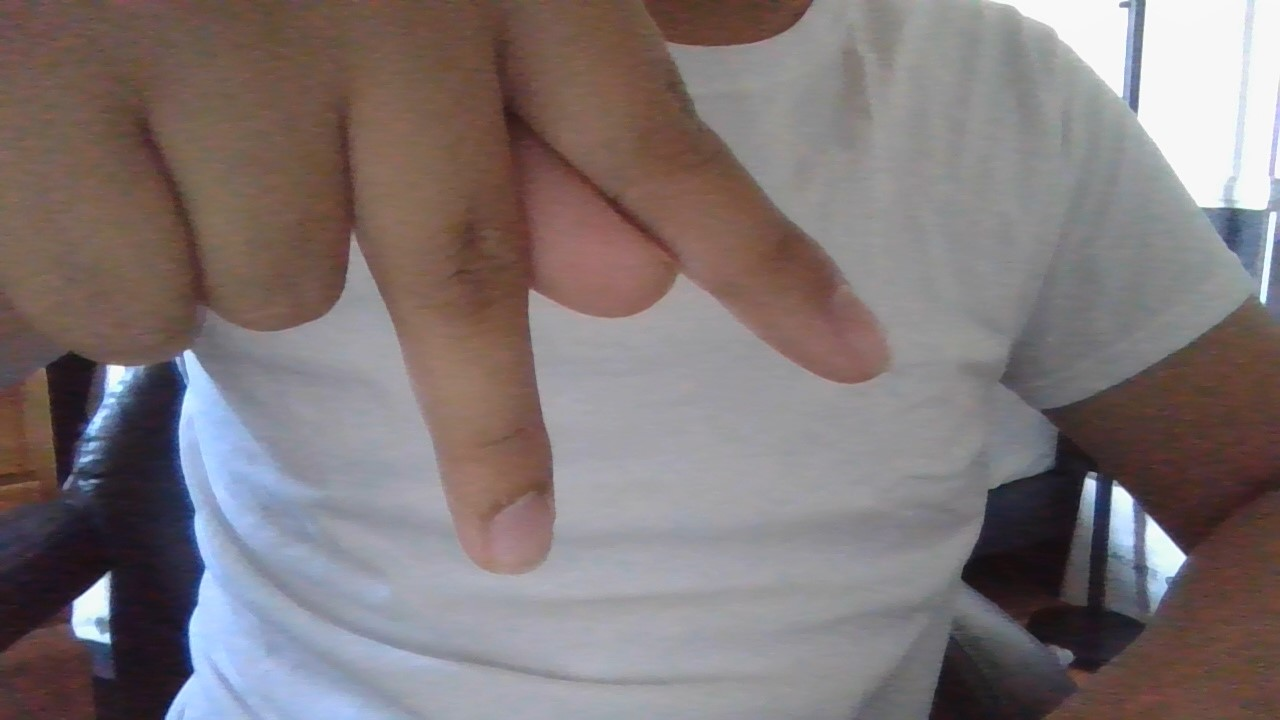p: (1, 4, 946, 589)
